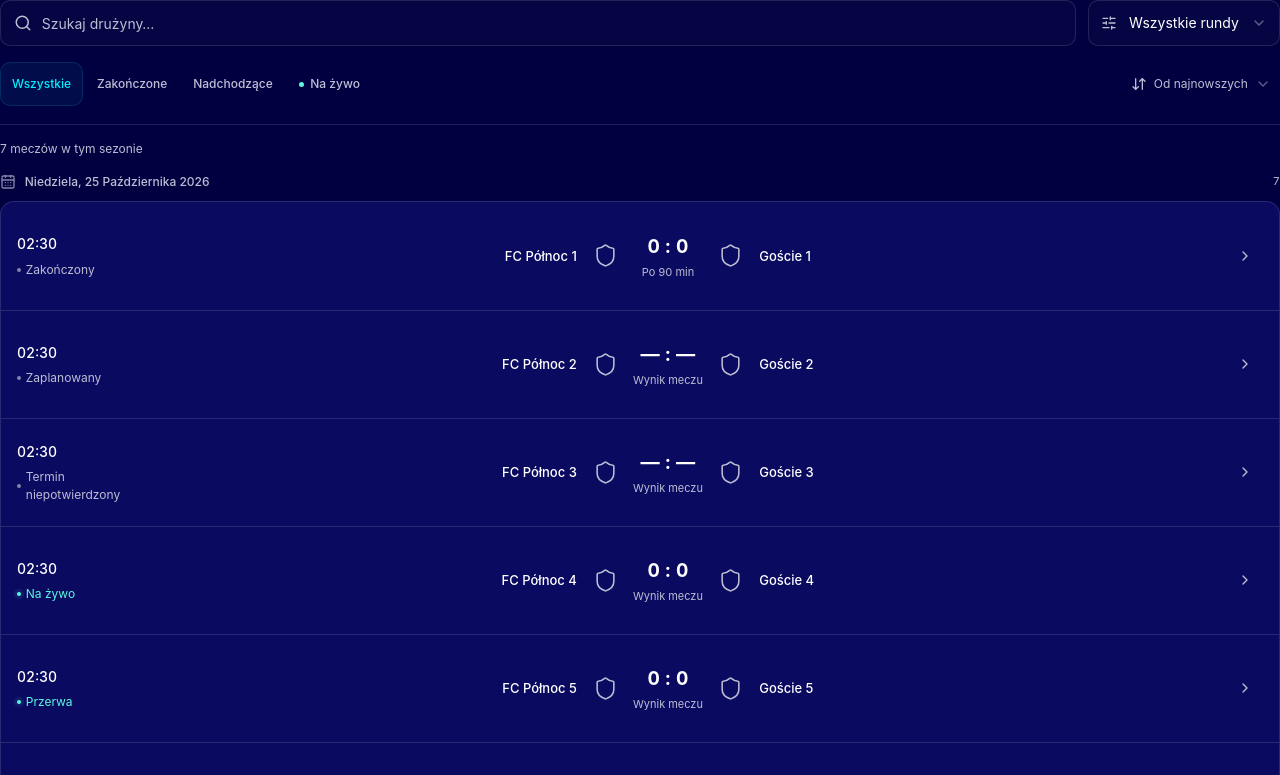
Scenario: MatchBrowser › switches between finished, upcoming, live and all matches without treating unknown states as upcoming
Click the button "Zakończone" at [132, 84], box [85,62,179,106]
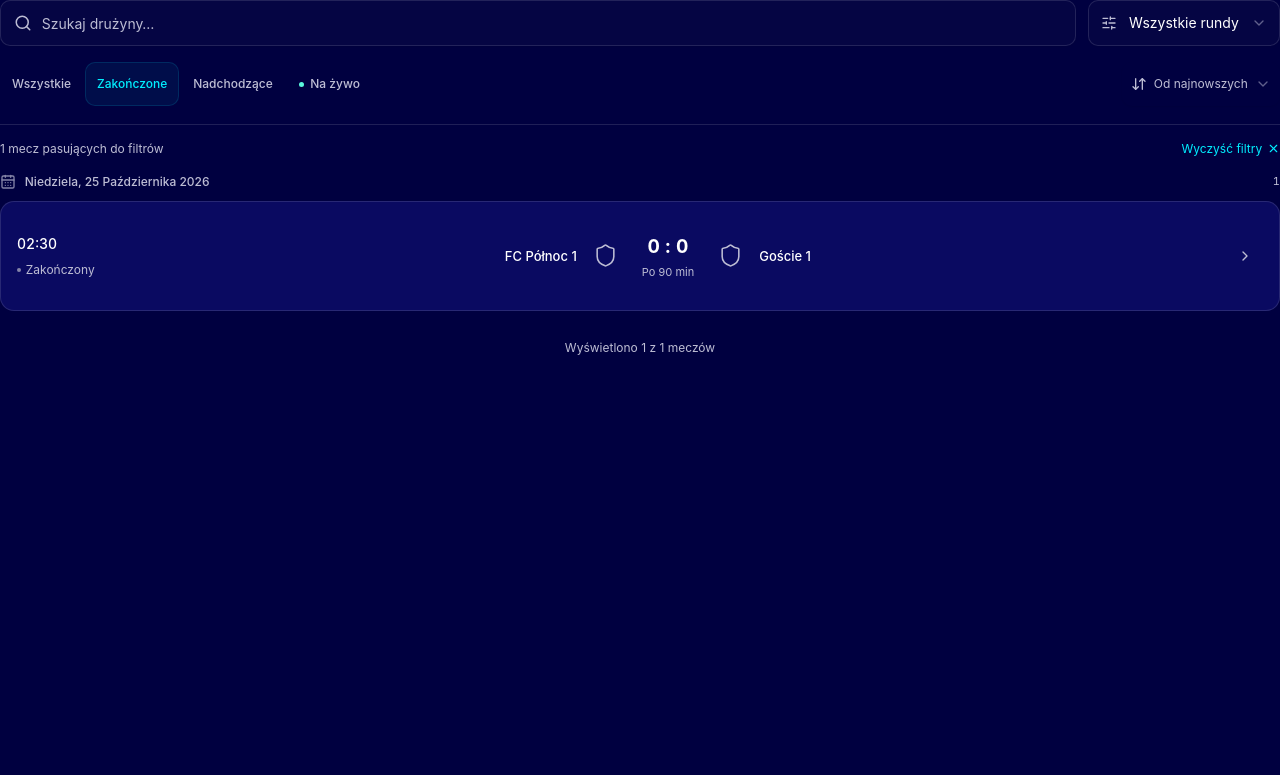
Expected: the element named "FC Północ 1 — Goście 1" is shown, [17,234,1267,279]
Click the button "Nadchodzące" at [233, 84], box [181,62,285,106]
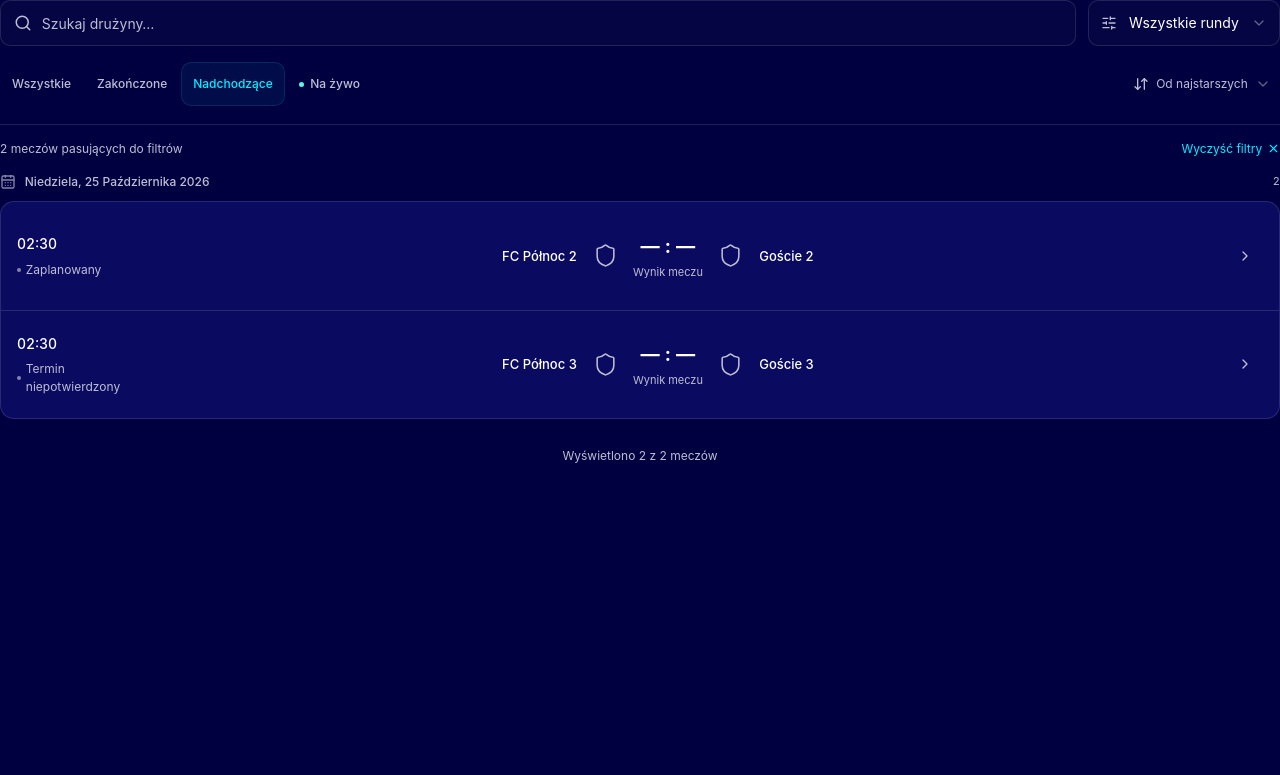
Now the element named "FC Północ 2 — Goście 2" is shown, box [17,234,1267,279]
Now the element named "FC Północ 3 — Goście 3" is shown, box [1,310,1279,418]
Click the button "Na żywo" at [329, 84], box [287,62,372,106]
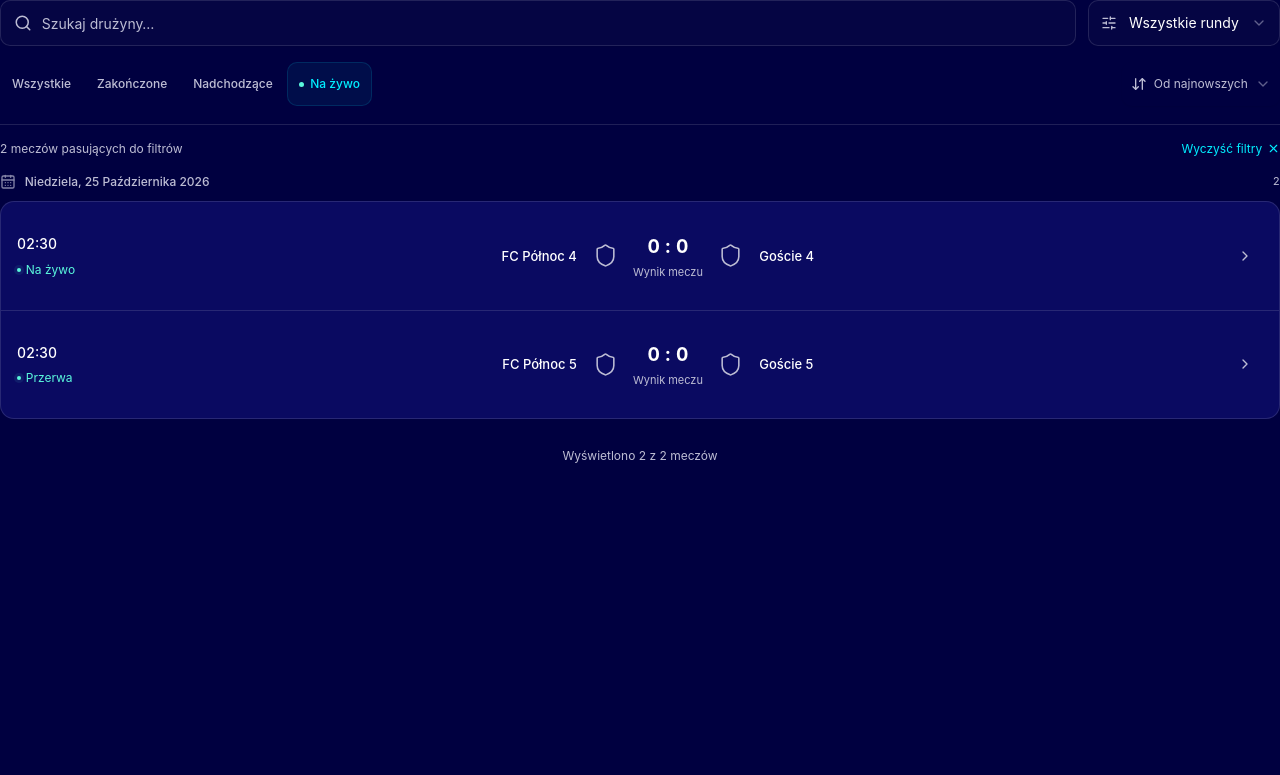
Now the element named "FC Północ 4 — Goście 4" is shown, box [17,234,1267,279]
Now the element named "FC Północ 5 — Goście 5" is shown, box [1,310,1279,418]
Click the button "Wszystkie" at [42, 84], box [0,62,83,106]
(page scrolled)
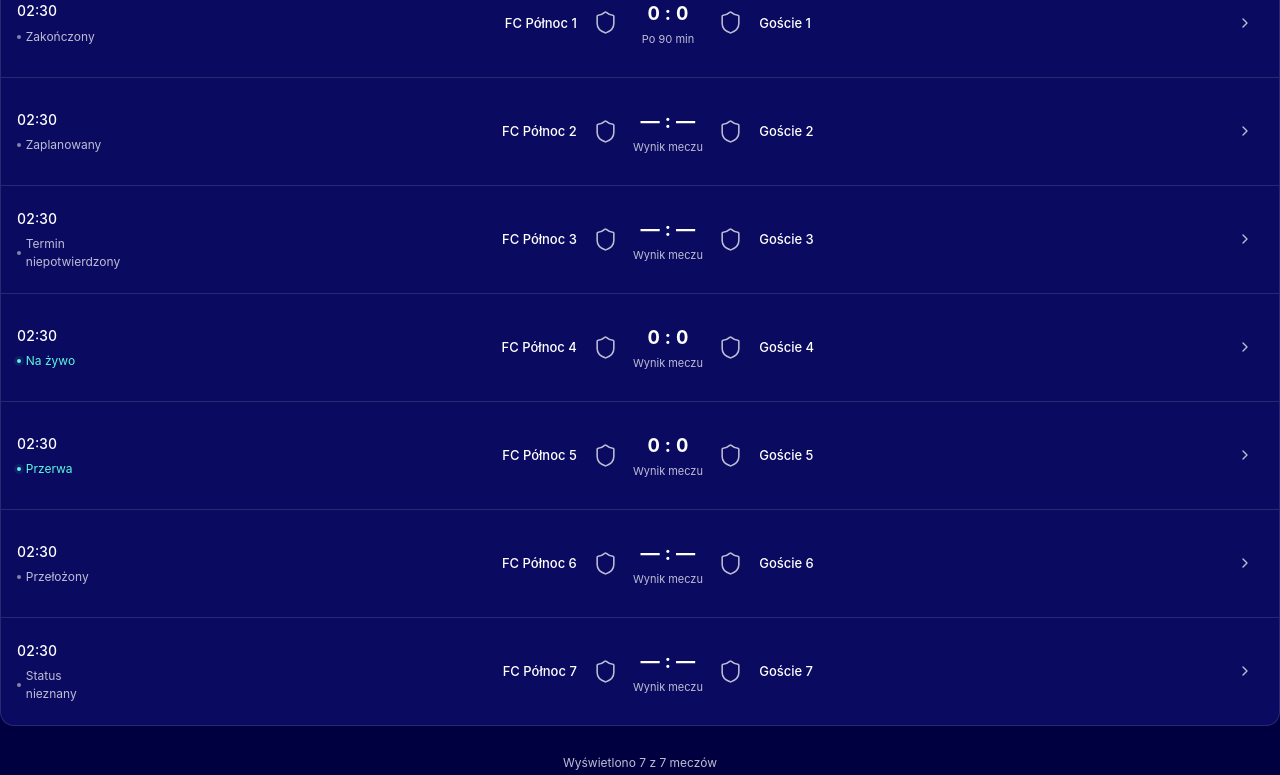
Now the text "Status nieznany" is shown, box [17,668,77,701]
Now the text "Przełożony" is shown, box [17,569,89,584]
